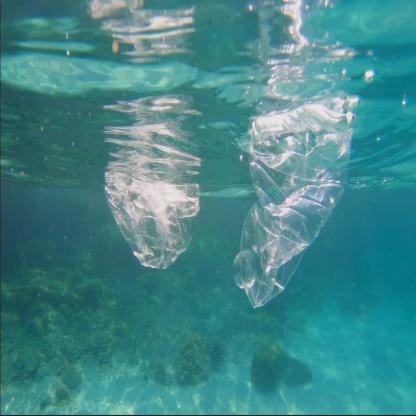Rác: (230, 183, 348, 308), (96, 178, 202, 298)
